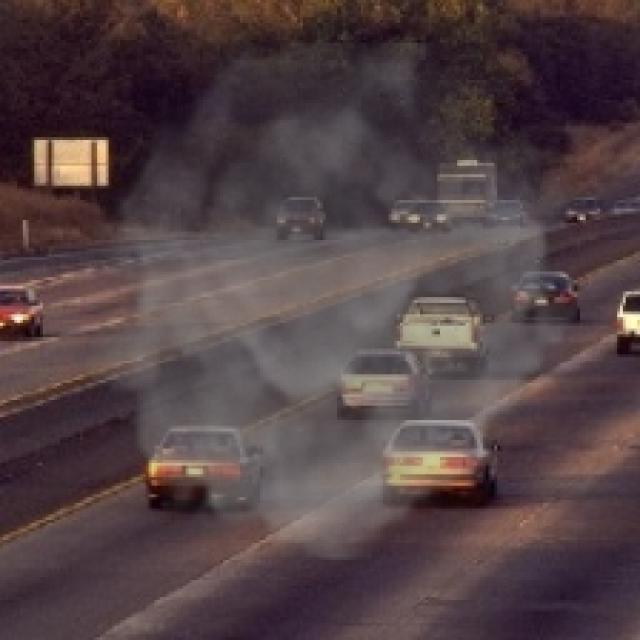smoke: (71, 43, 600, 560)
